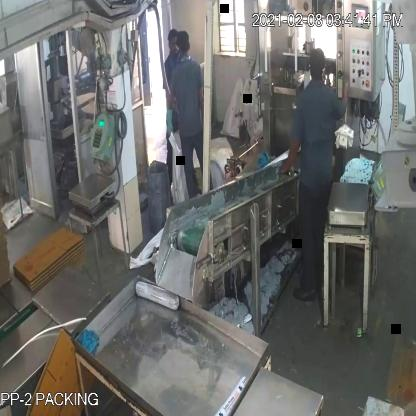no_glove: (279, 127, 306, 183)
